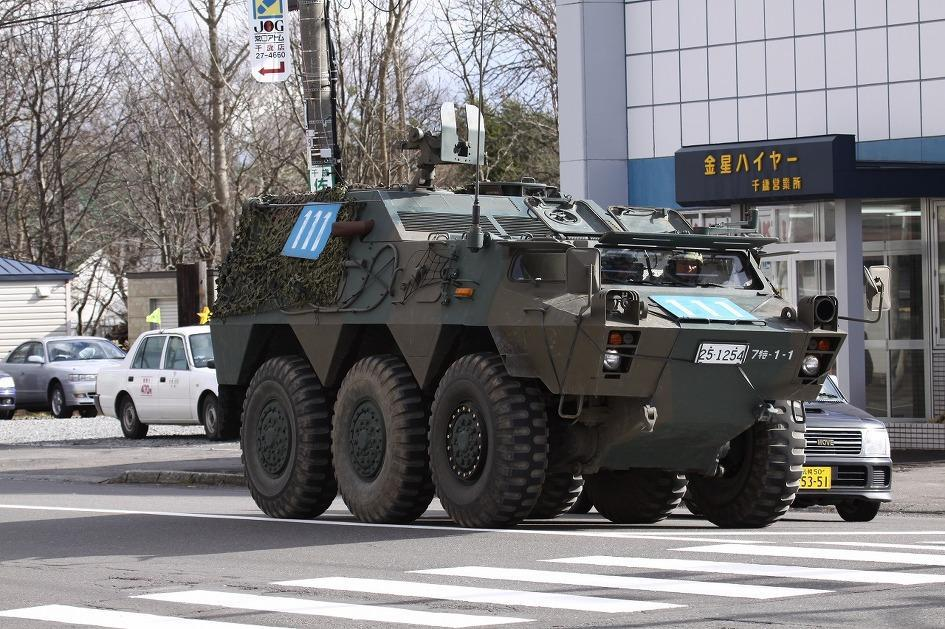MIL_IFV: (206, 106, 892, 530)
